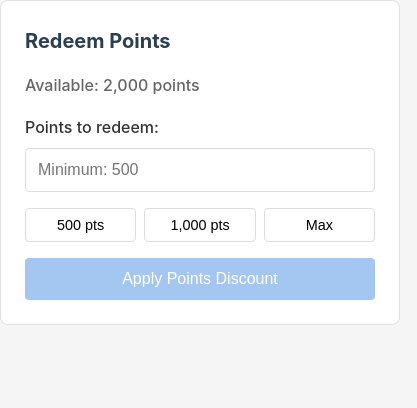
Scenario: PointRedemptionForm › should handle quick redeem 1000 points
Click the button "1,000 pts": (200, 225) [144,208,256,242]
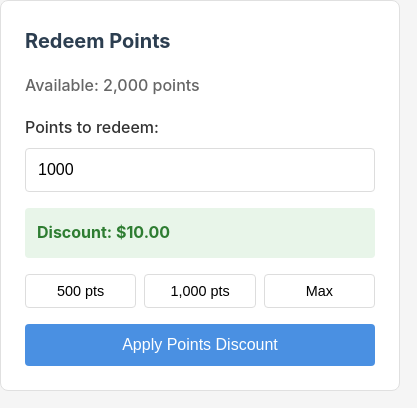
Check: the number field labelled "Points to redeem:" holds "1000", box [25,148,375,192]
